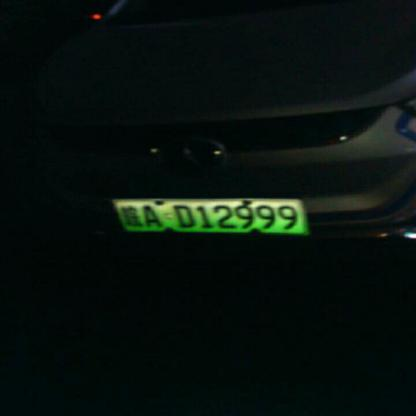lp: (112, 197, 305, 234)
